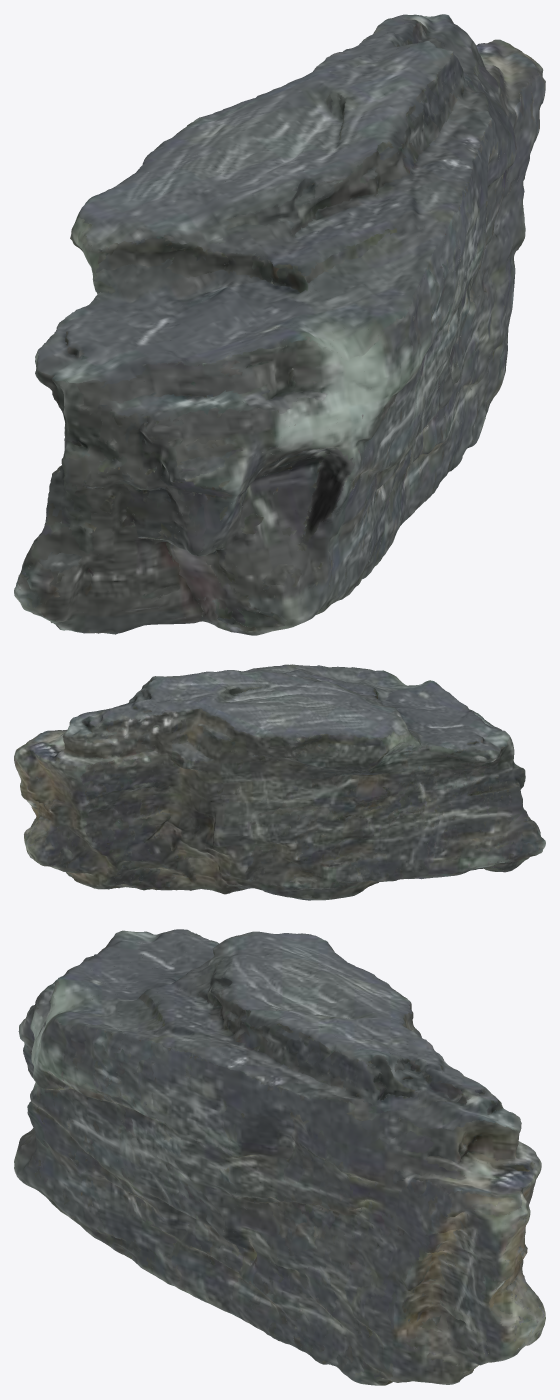
The model's file is plata.glb.
3 views of the same model, one above another, from view 1: azimuth 30°, elevation 25°; view 2: azimuth 150°, elevation 25°; view 3: azimuth 270°, elevation 25° (orthographic). The views are drawn at different scales.
Parts seen in each view (by area): view 1: Object_2, Object_3, Object_4; view 2: Object_2, Object_3, Object_4; view 3: Object_2, Object_3, Object_4.
Part boxes in pixels (x1,y1,x2,y2): Object_2: [35, 14, 545, 623]; Object_3: [14, 14, 538, 635]; Object_4: [179, 32, 518, 531]; Object_2: [14, 664, 525, 900]; Object_3: [51, 664, 545, 900]; Object_4: [24, 673, 484, 900]; Object_2: [14, 929, 545, 1385]; Object_3: [14, 931, 539, 1385]; Object_4: [20, 956, 545, 1382].
Bounding box in the file's own units: 1 × 0.4993 × 0.756.
Materials: 1 (1 with a texture image).
